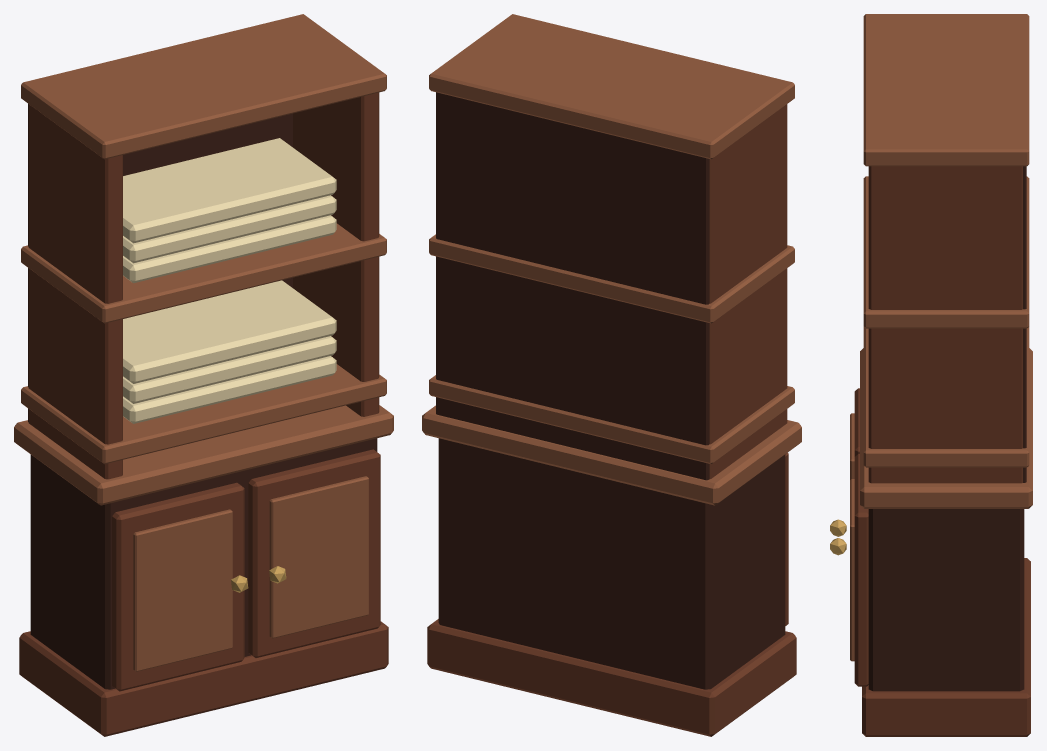
Rendered from linen_cabinet.glb.
3 renders of one model, left to right at view 1: azimuth 30°, elevation 25°; view 2: azimuth 150°, elevation 25°; view 3: azimuth 270°, elevation 25°, orthographic.
Parts seen in each view (by area): view 1: Lower, Shelf_002, Side, Lower_Body, Lower_Plinth, Side_001, Lower_Top, FoldedLinen_005, FoldedLinen_002, Shelf_001, Shelf, FoldedLinen_004 (+4 smaller); view 2: Back, Lower_Body, Shelf_002, Side, Lower_Plinth, Lower_Top, Shelf_001, Shelf, Lower; view 3: Side_001, Lower_Body, Shelf_002, Lower_Plinth, Lower_Top, Lower, Shelf_001, Shelf, Back.
Part boxes in pixels (left/top/right/bottom): Lower: left=112, top=449, right=380, bottom=691; Shelf_002: left=21, top=14, right=386, bottom=159; Side: left=28, top=104, right=122, bottom=479; Lower_Body: left=30, top=438, right=377, bottom=689; Lower_Plinth: left=19, top=621, right=388, bottom=736; Side_001: left=293, top=92, right=379, bottom=416; Lower_Top: left=14, top=405, right=393, bottom=505; FoldedLinen_005: left=123, top=138, right=336, bottom=243; FoldedLinen_002: left=123, top=280, right=336, bottom=383; Shelf_001: left=21, top=223, right=386, bottom=323; Shelf: left=21, top=364, right=386, bottom=464; FoldedLinen_004: left=123, top=195, right=336, bottom=263; Back: left=436, top=92, right=709, bottom=480; Lower_Body: left=438, top=438, right=785, bottom=689; Shelf_002: left=429, top=14, right=794, bottom=159; Side: left=709, top=104, right=787, bottom=478; Lower_Plinth: left=427, top=619, right=796, bottom=736; Lower_Top: left=422, top=405, right=801, bottom=505; Shelf_001: left=429, top=234, right=794, bottom=323; Shelf: left=429, top=375, right=794, bottom=464; Lower: left=785, top=452, right=788, bottom=625; Side_001: left=868, top=166, right=1022, bottom=483; Lower_Body: left=868, top=509, right=1024, bottom=691; Shelf_002: left=863, top=14, right=1029, bottom=166; Lower_Plinth: left=862, top=558, right=1030, bottom=736; Lower_Top: left=860, top=348, right=1032, bottom=508; Lower: left=830, top=388, right=868, bottom=686; Shelf_001: left=863, top=176, right=1029, bottom=328; Shelf: left=863, top=327, right=1029, bottom=467; Back: left=1023, top=166, right=1026, bottom=482.
Bounding box in the file's own units: 0.98 × 1.88 × 0.5868.
